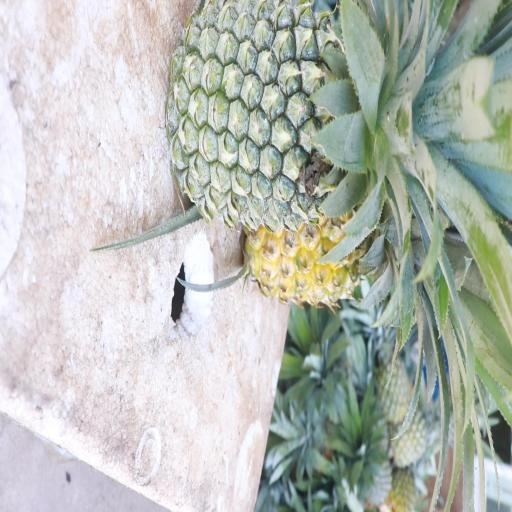Pineapple - v8 v1: (244, 224, 505, 391)
